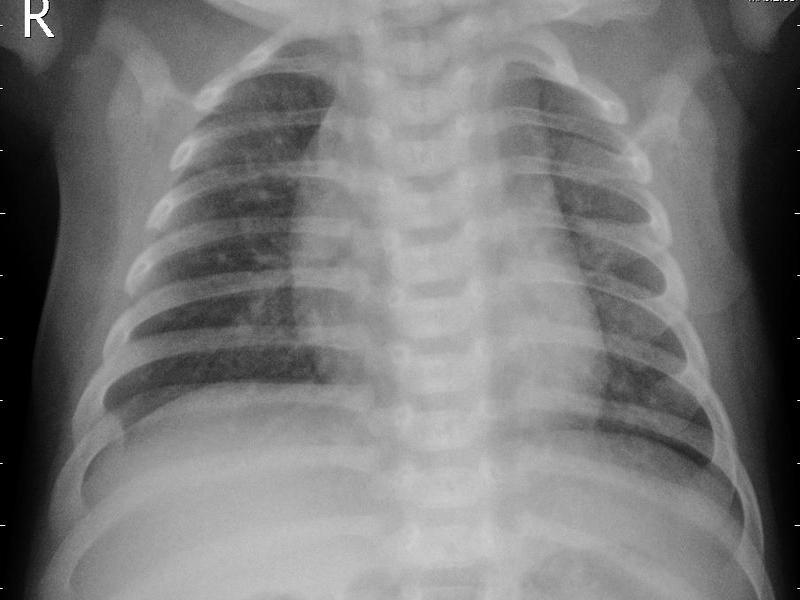PNEUMONIA: (201, 114, 297, 364), (113, 387, 359, 477), (586, 244, 681, 450)
